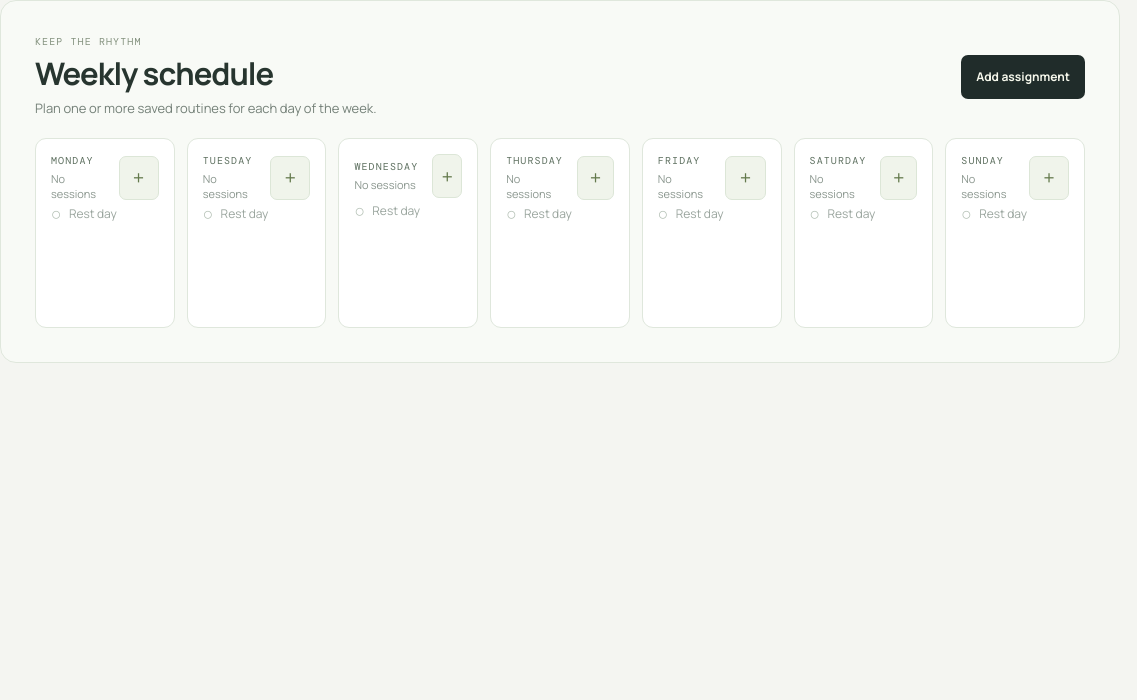
Test: ScheduleEditor › rejects invalid time and missing routine without writing a partial assignment
Click the button "Add assignment" at (1023, 77), box [961, 55, 1085, 99]
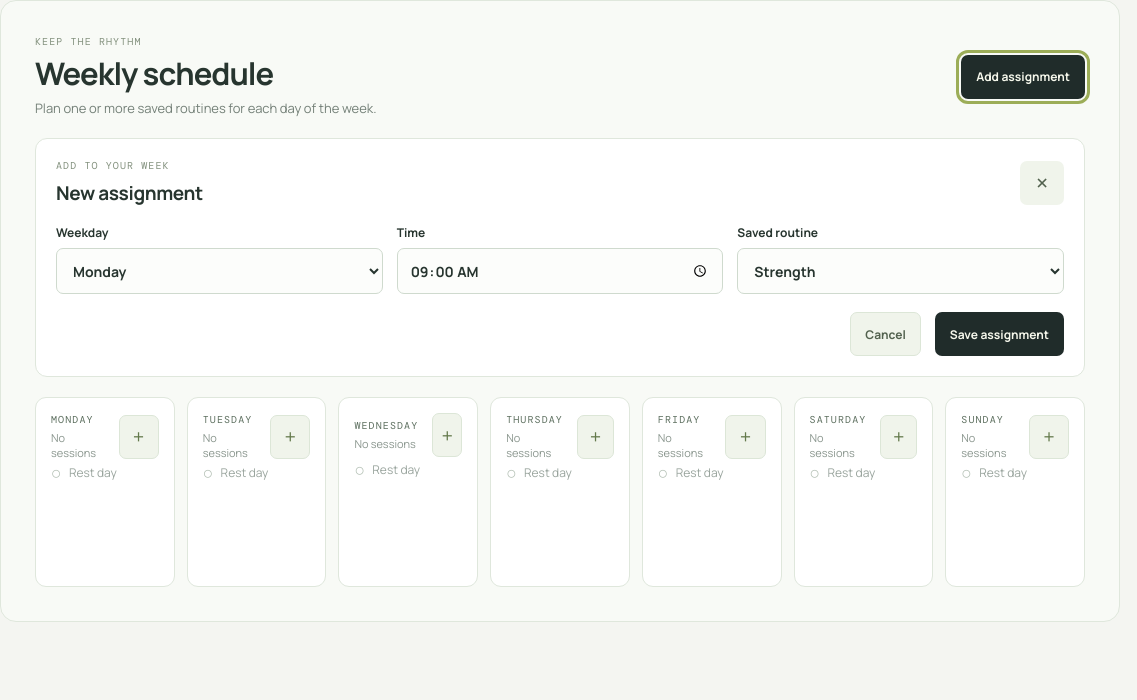
Select "Choose a routine" in the dropdown labelled "Saved routine" at (901, 271), box [737, 248, 1064, 294]
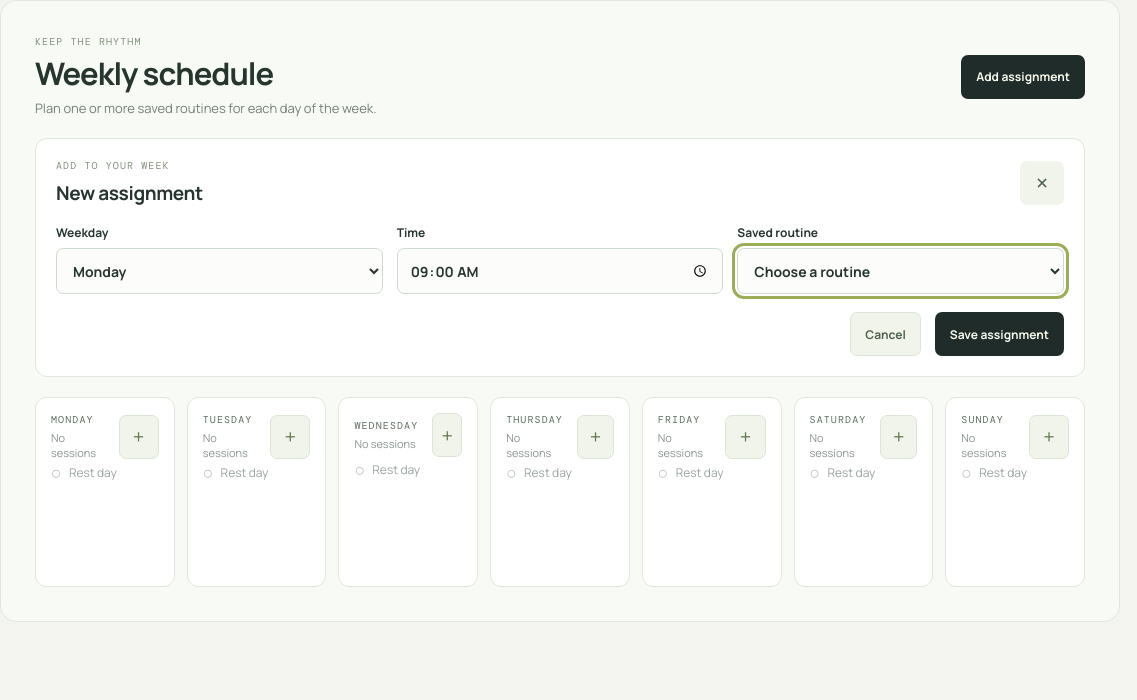
Clear the time field labelled "Time" at (560, 271), box [397, 248, 723, 294]
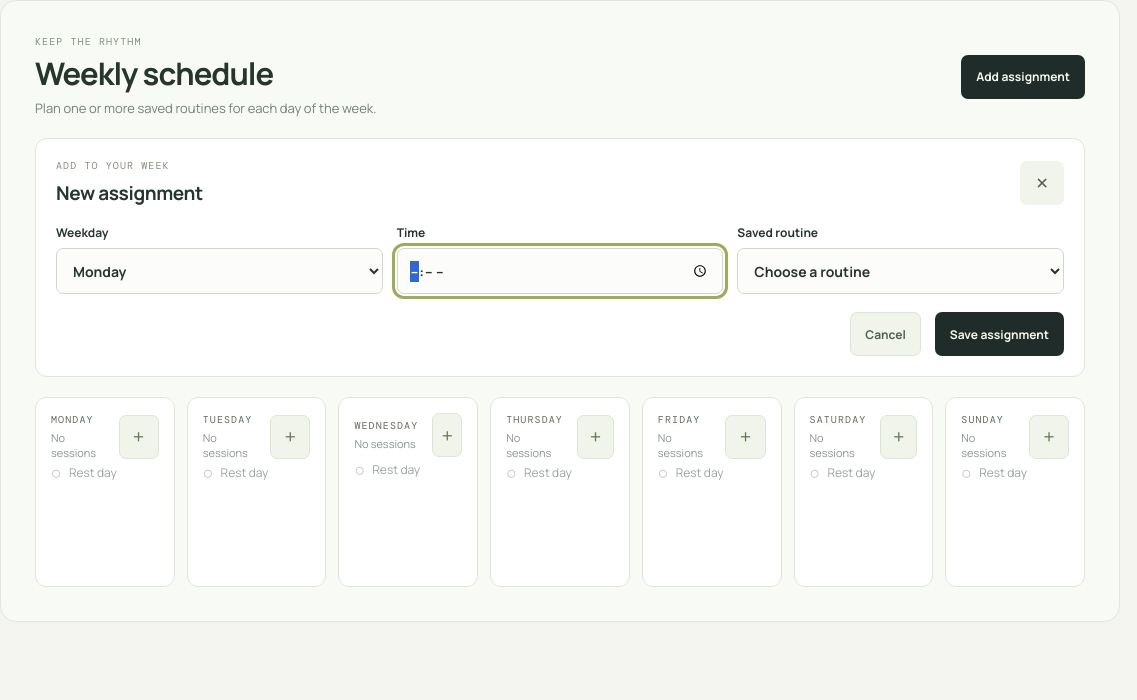
Click the button "Save assignment" at (999, 334), box [935, 312, 1064, 356]
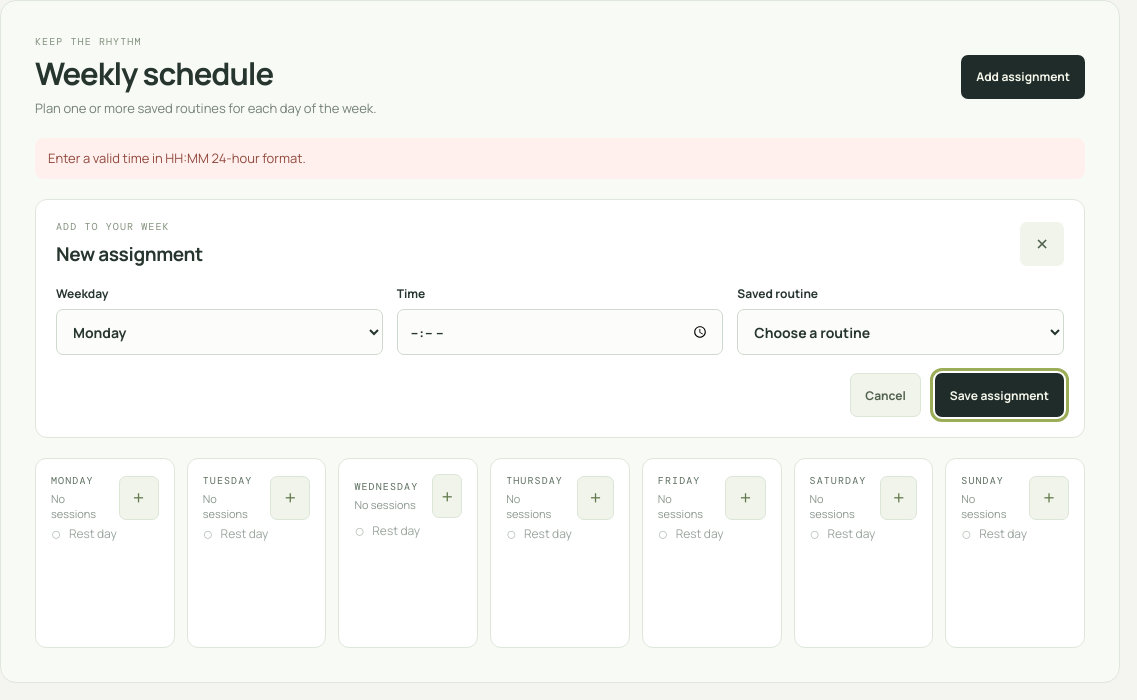
Expected: the message shows "valid time", [48, 149, 306, 167]
Type "08:00" into the time field labelled "Time" at (560, 332), box [397, 309, 723, 355]
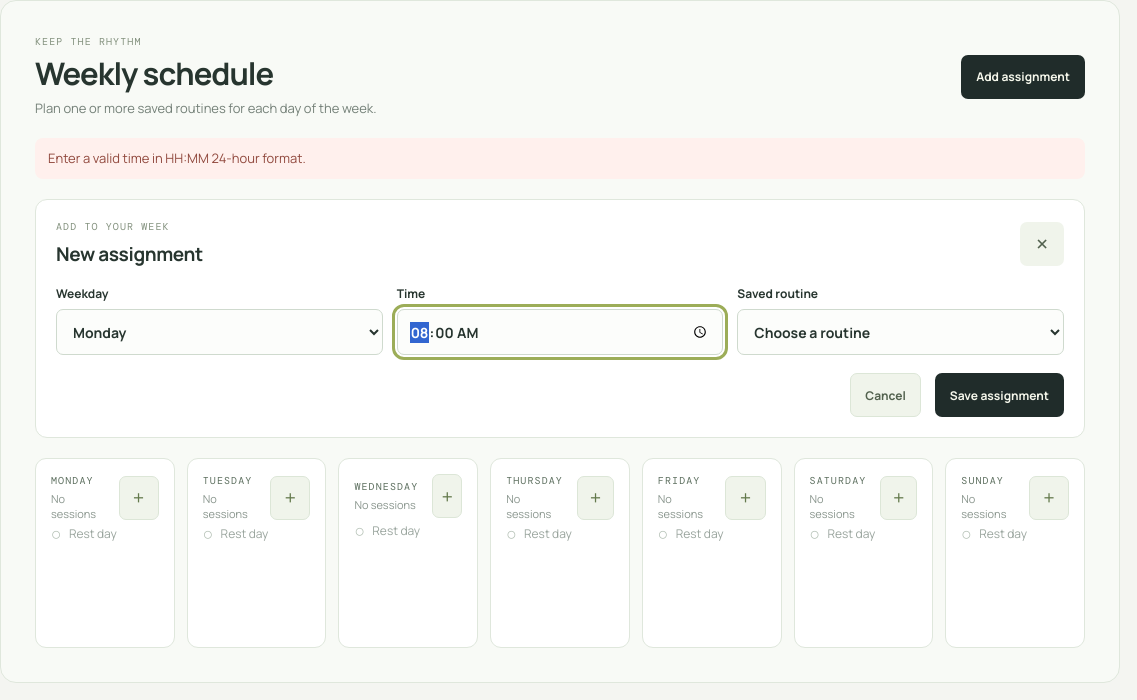
Click the button "Save assignment" at (999, 395), box [935, 373, 1064, 417]
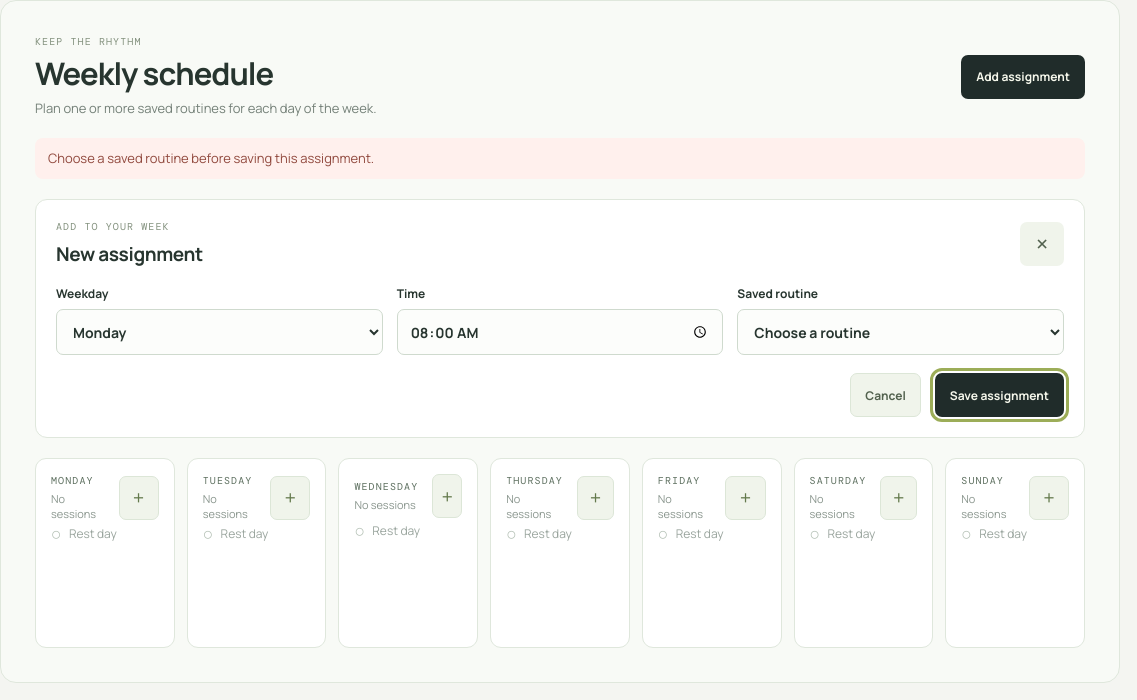
Expected: the message shows "Choose a saved routine", [48, 149, 374, 167]
